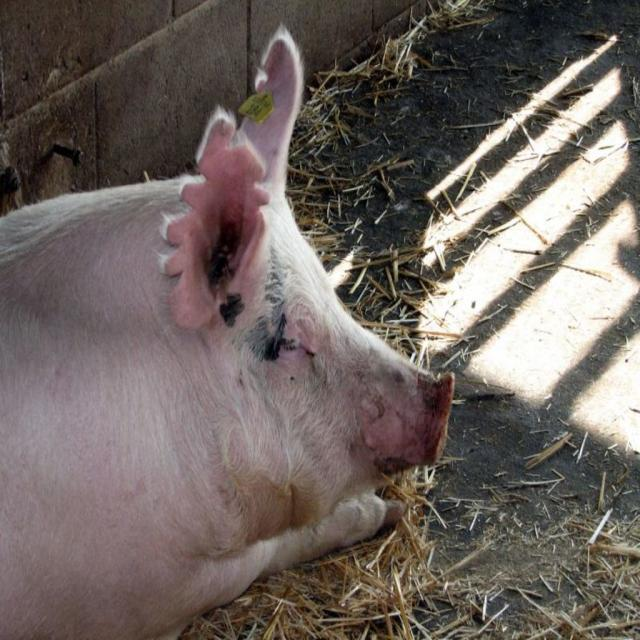Pig: (0, 23, 455, 639)
